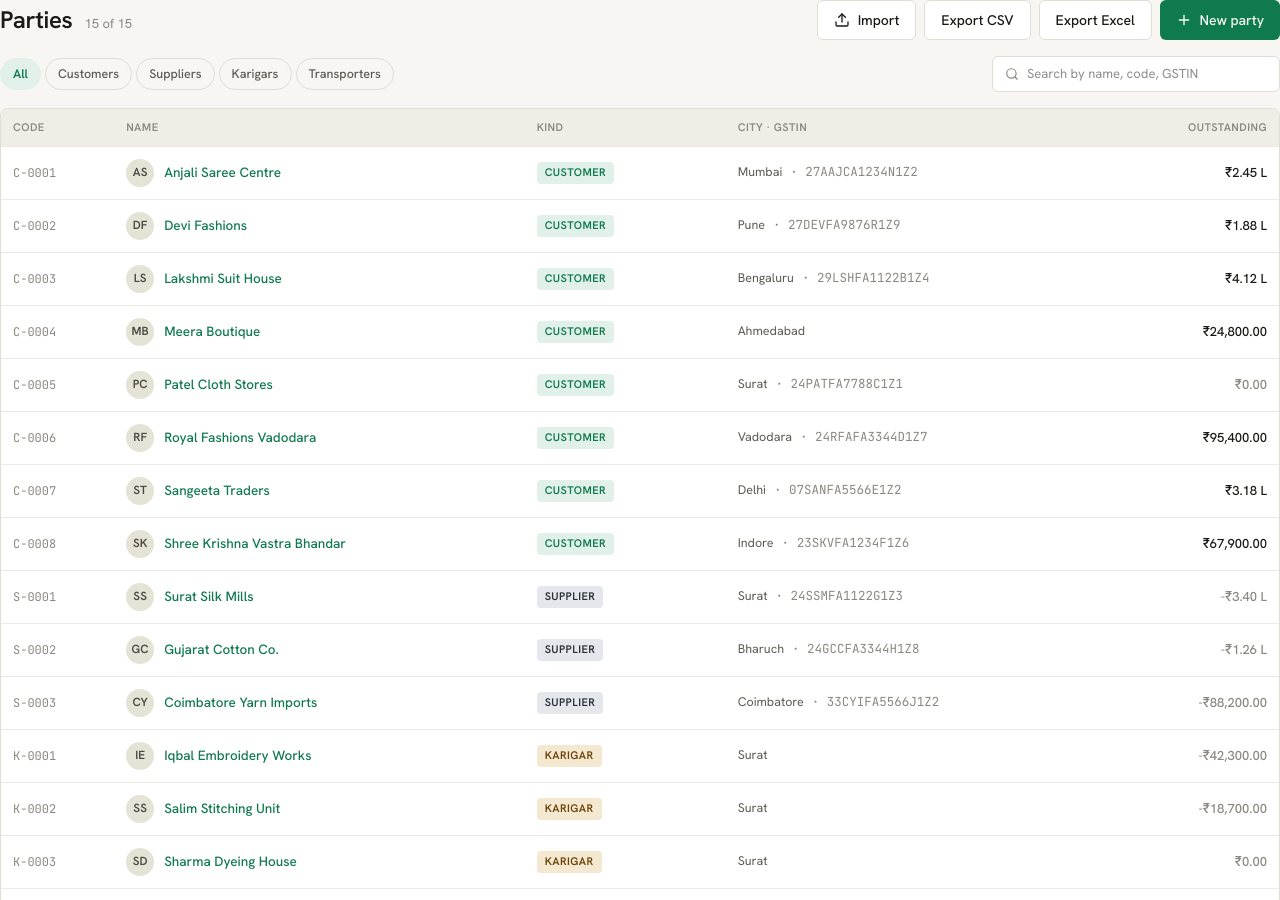
Parties list + detail › lists parties and routes to detail with khata KPIs
Expected: the text "Anjali Saree Centre" is shown, [164,162,281,183]
Click the link "AS Anjali Saree Centre" at (204, 172), box [126,158,281,186]
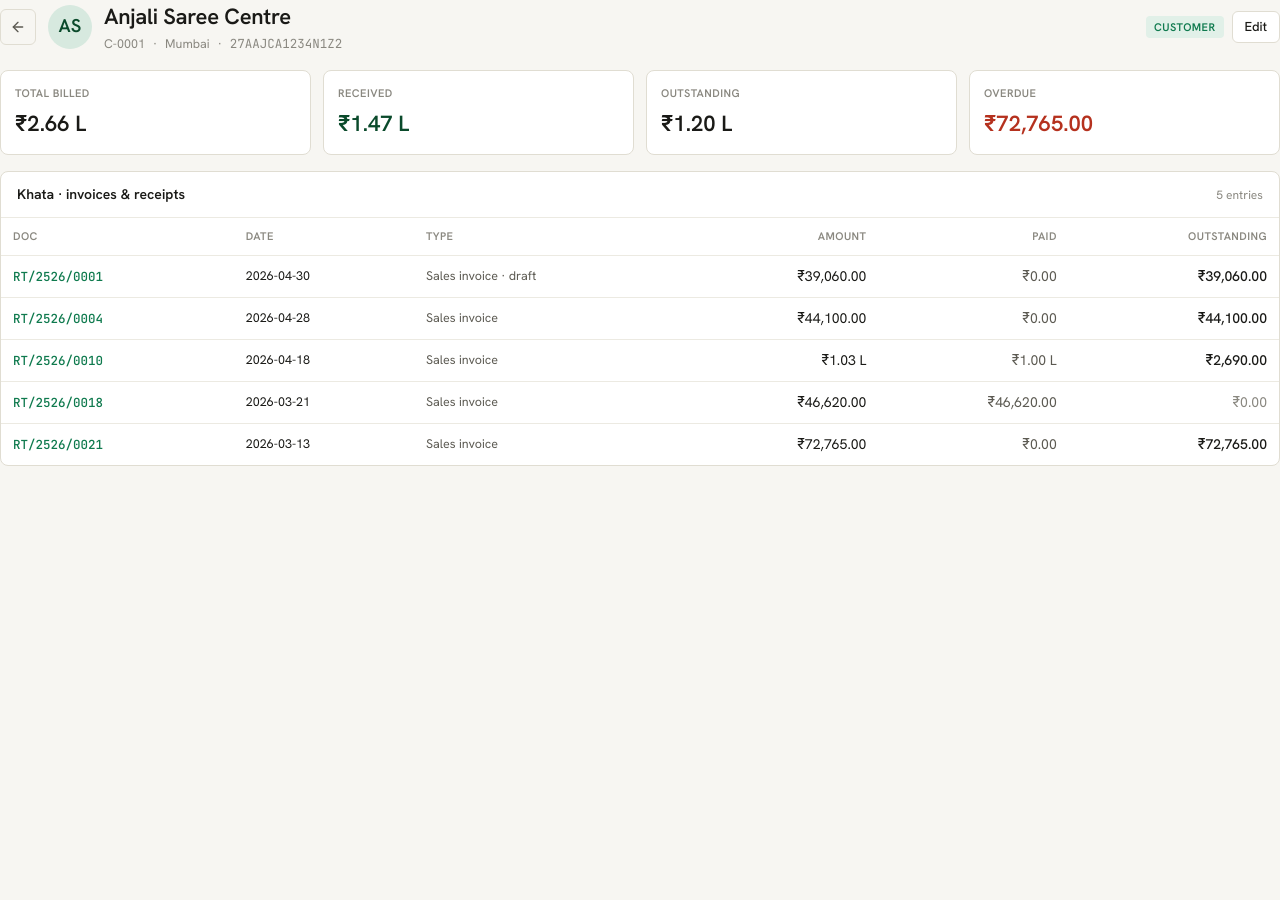
Now the heading "Anjali Saree Centre" is shown, box [104,2,291,31]
Now the text "Total billed" is shown, box [15,86,90,100]
